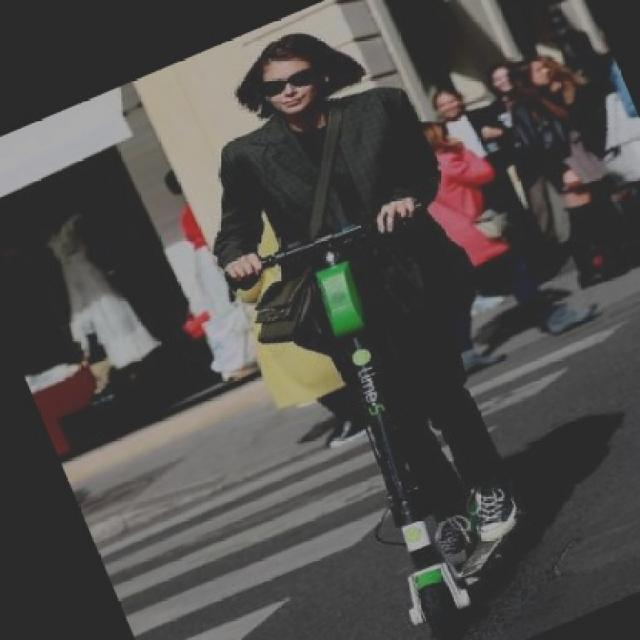bare_head: (216, 30, 369, 107)
human: (203, 17, 520, 537)
kickboard: (373, 472, 601, 640)
